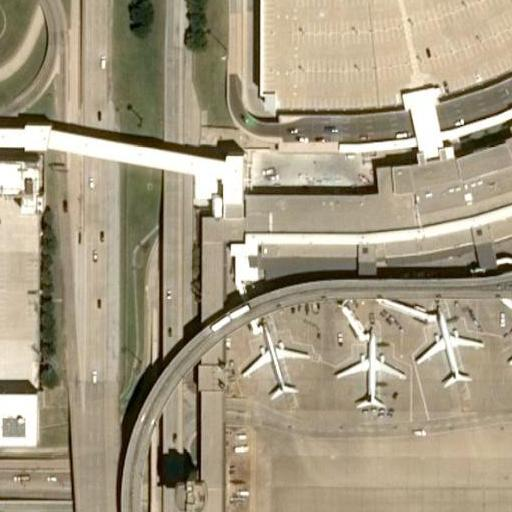Aircraft: (409, 306, 489, 398), (240, 328, 310, 407), (334, 326, 400, 405), (503, 310, 512, 408)
